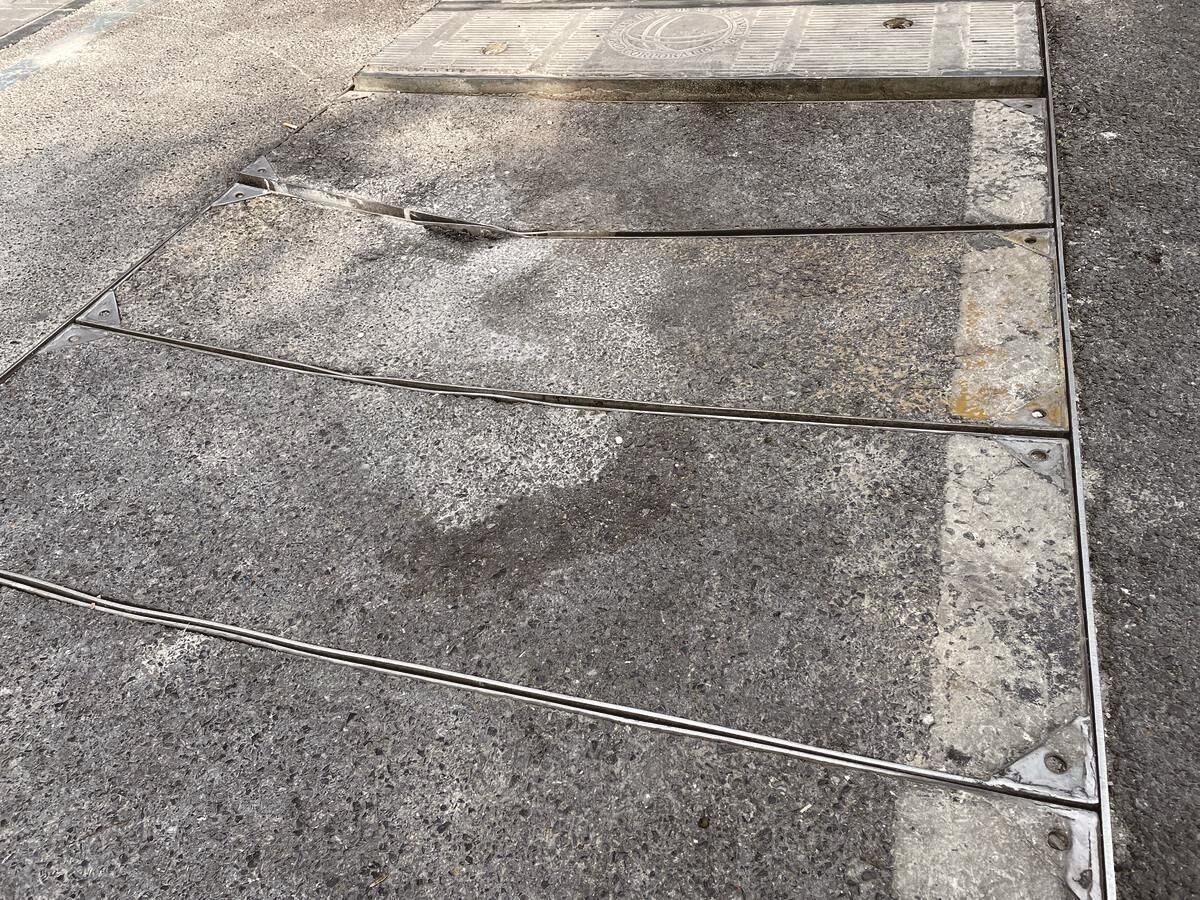crack: (531, 191, 1086, 302), (238, 155, 556, 260)
